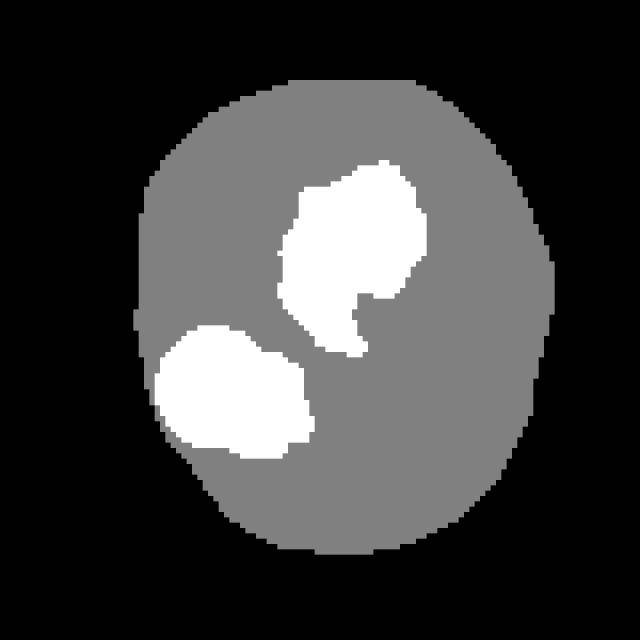WBC: (107, 58, 565, 570)
